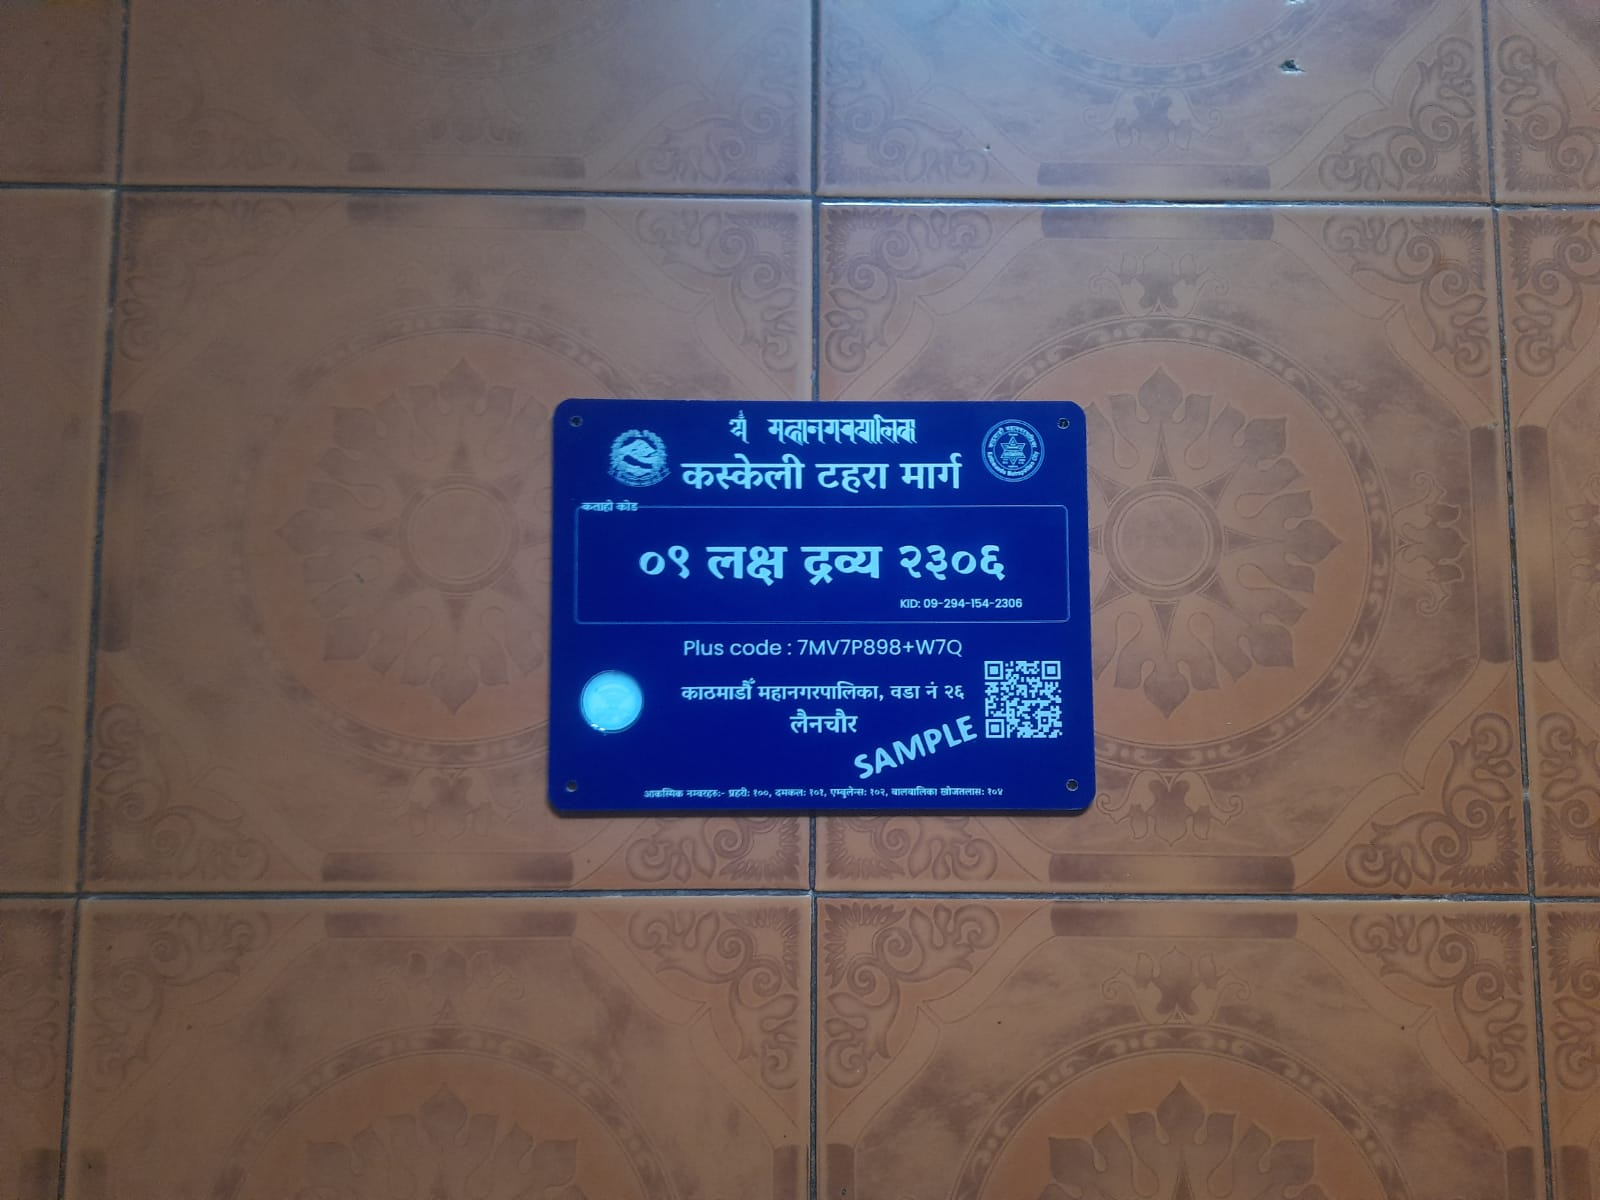Plate: (544, 392, 1105, 820)
